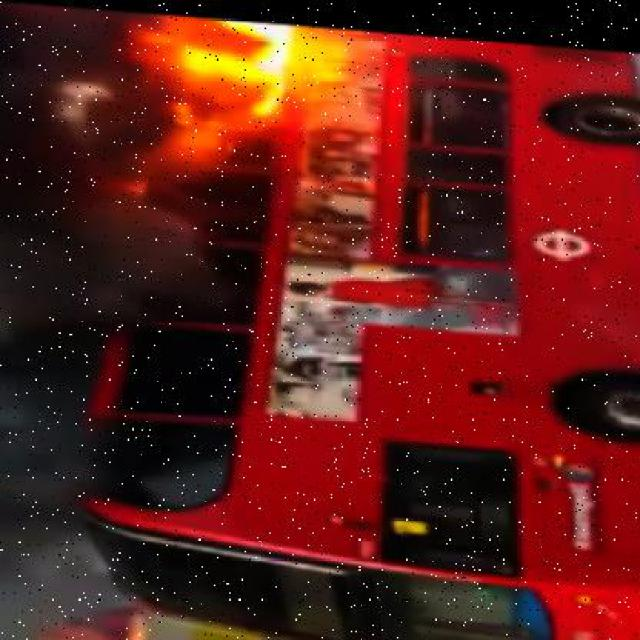fire: (120, 74, 260, 640), (35, 4, 287, 153), (137, 10, 220, 49)
